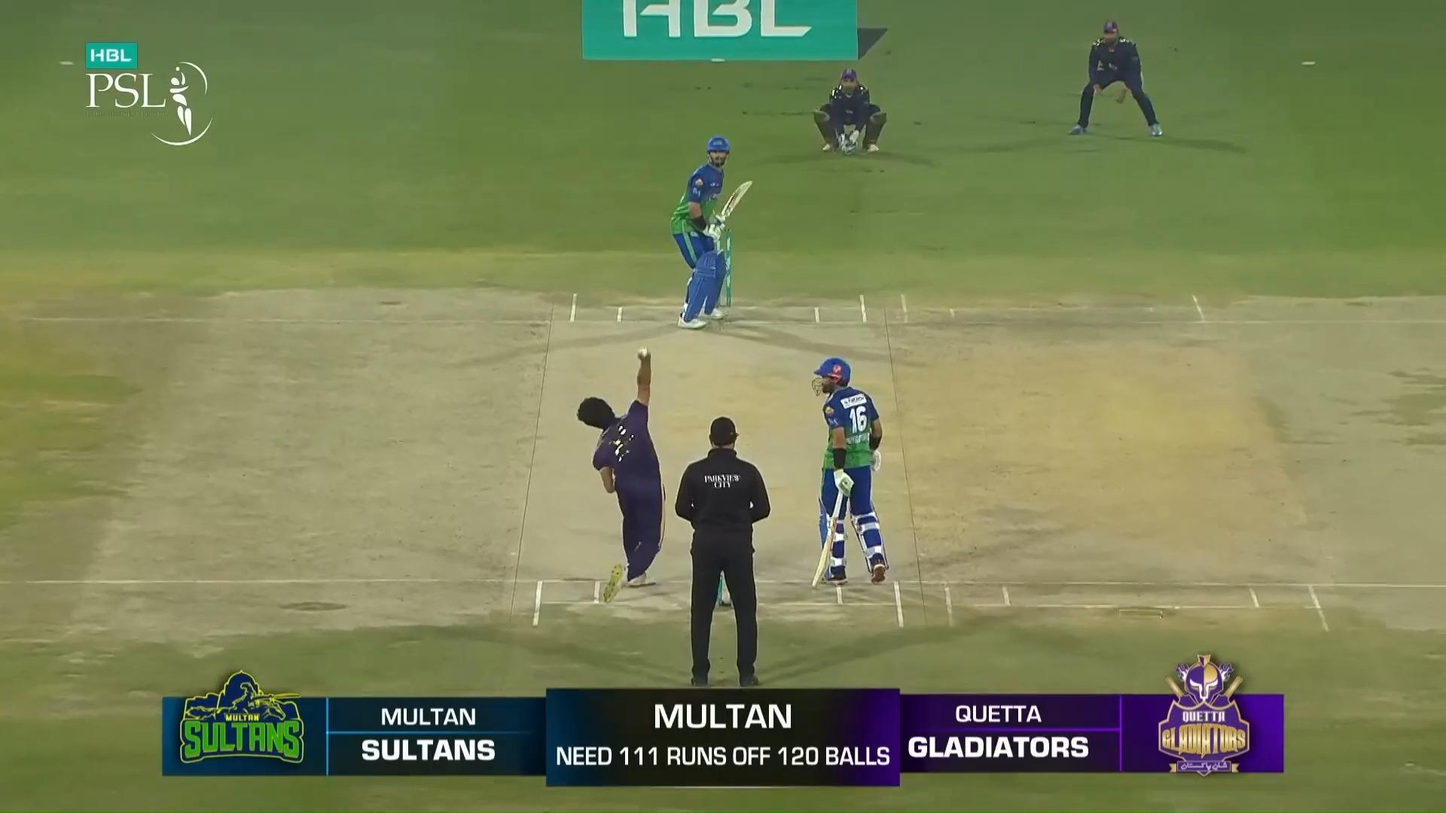batsman: (670, 135, 753, 329)
